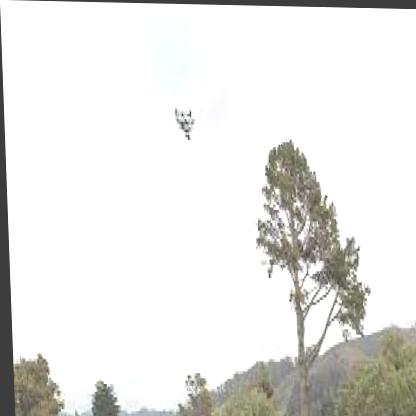UAS: (171, 102, 203, 139)
